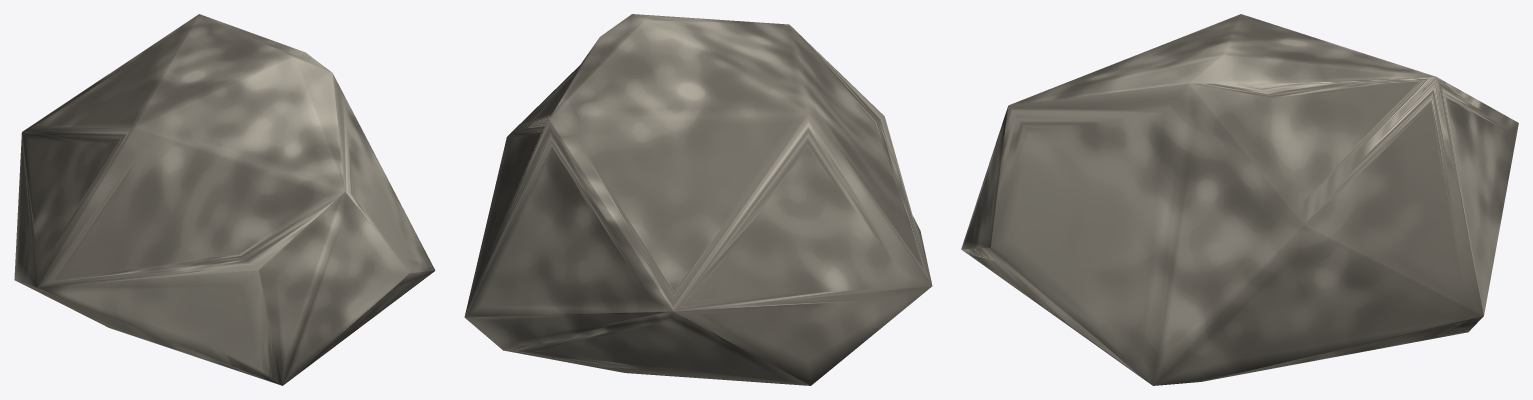
The model's file is boulder_lp2.gltf.
The picture shows the model from 3 angles, left to right: view 1: azimuth 30°, elevation 25°; view 2: azimuth 150°, elevation 25°; view 3: azimuth 270°, elevation 25°; orthographic projection. The views are drawn at different scales.
Parts seen in each view (by area): view 1: boulder_lp2_stone_LOD0; view 2: boulder_lp2_stone_LOD0; view 3: boulder_lp2_stone_LOD0.
Boxes of the visible parts, x1=… form: boulder_lp2_stone_LOD0: x1=14, y1=14, x2=435, y2=385; boulder_lp2_stone_LOD0: x1=464, y1=14, x2=932, y2=385; boulder_lp2_stone_LOD0: x1=961, y1=14, x2=1518, y2=385.
Size of what is drawn, in the model's own units: 1.43 by 0.8191 by 1.57.
Materials: 1 (1 with a texture image).
